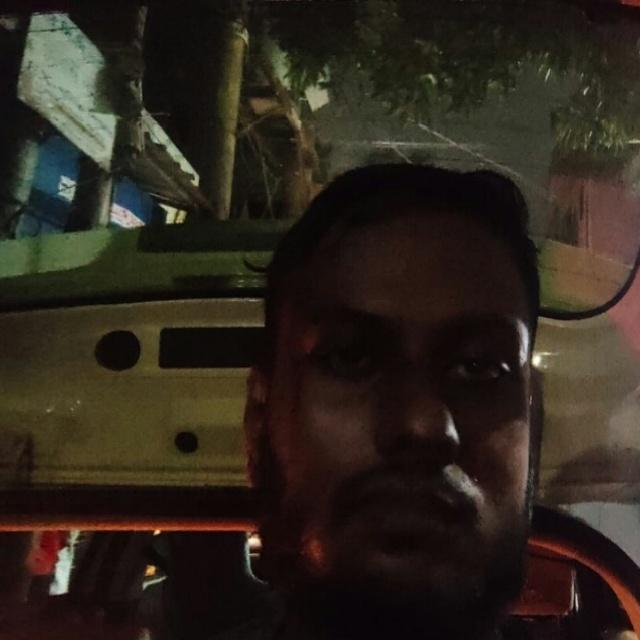Disgust: (225, 156, 595, 626)
